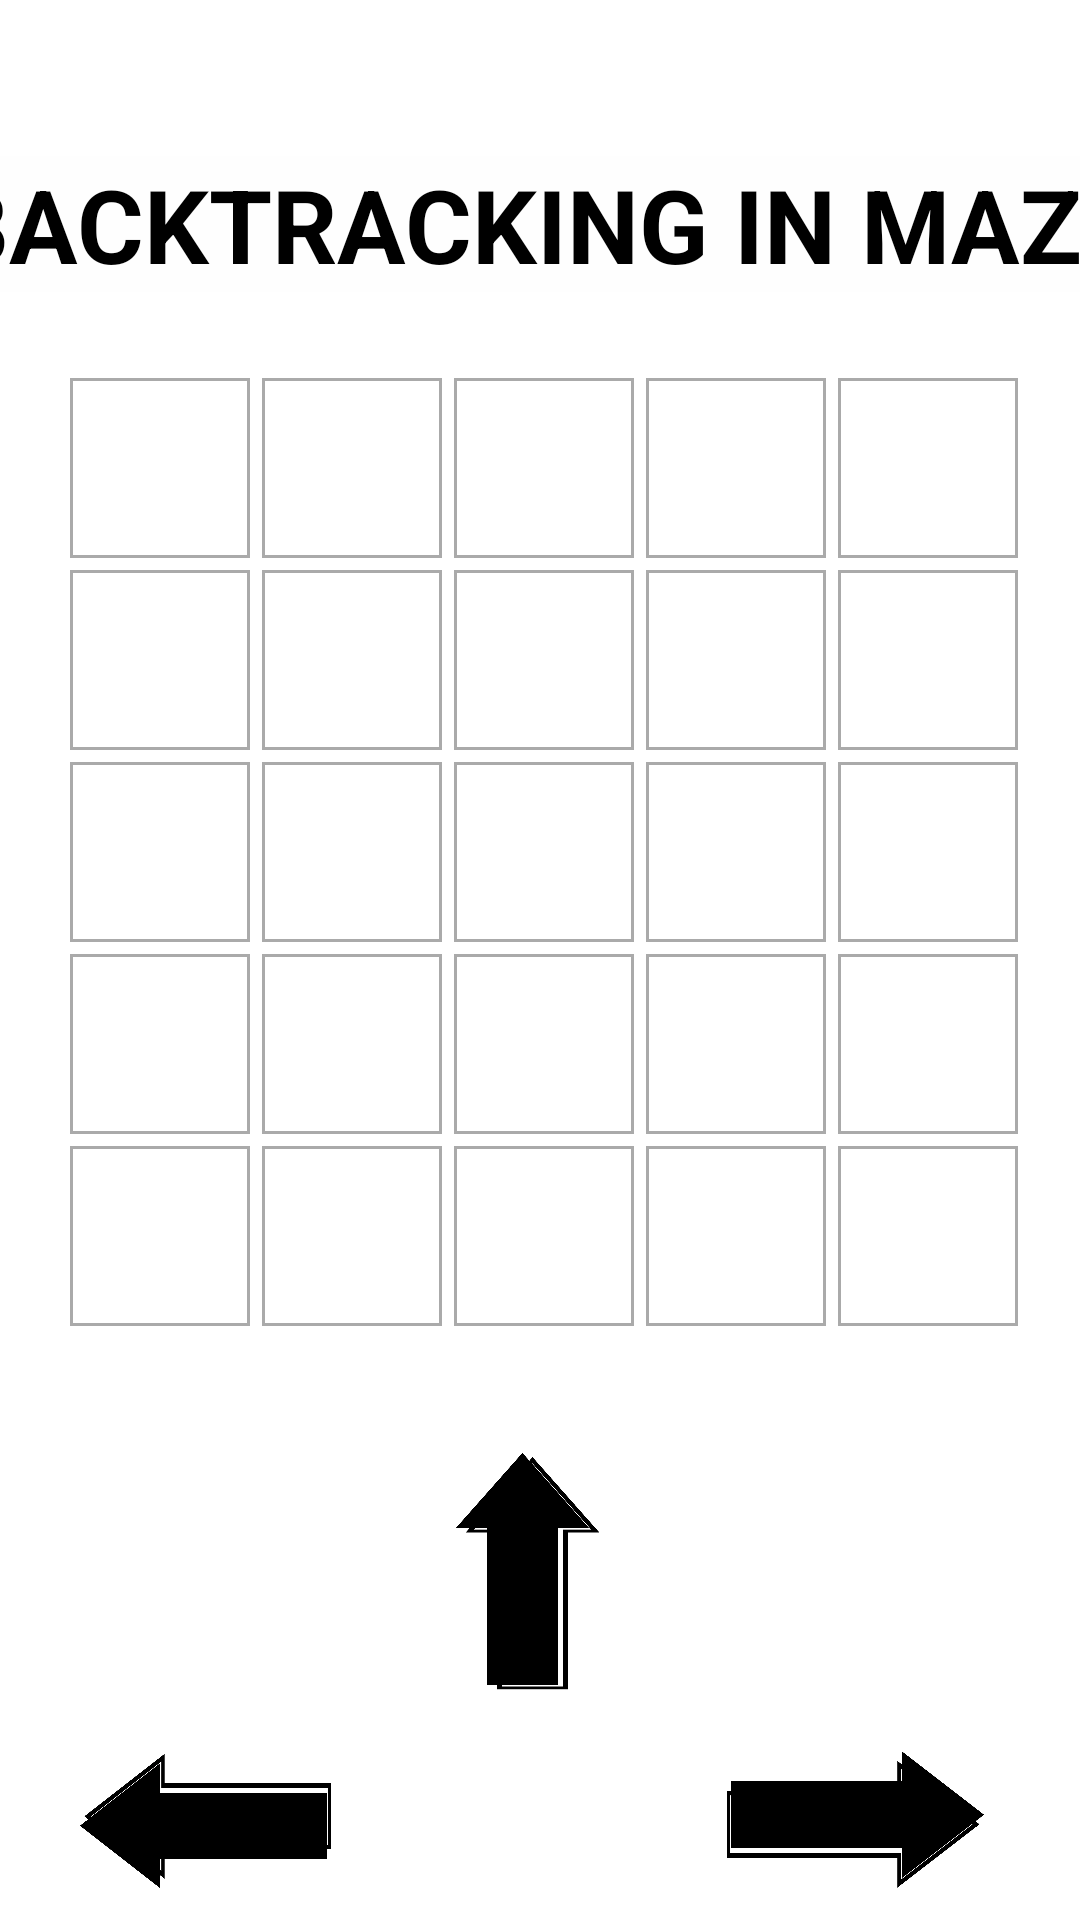

Screen size 1080px x 1920px. Icon name, then its box in pixels as [x1,y1,x2,y2]:
arrow left: [80,1754,331,1888]
arrow right: [727,1752,984,1888]
arrow up: [456,1453,599,1690]
